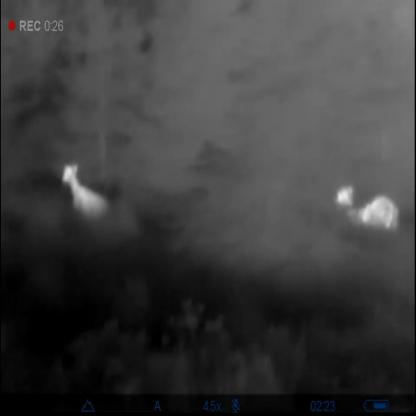rehkitze: (56, 163, 112, 226), (333, 184, 400, 236)
